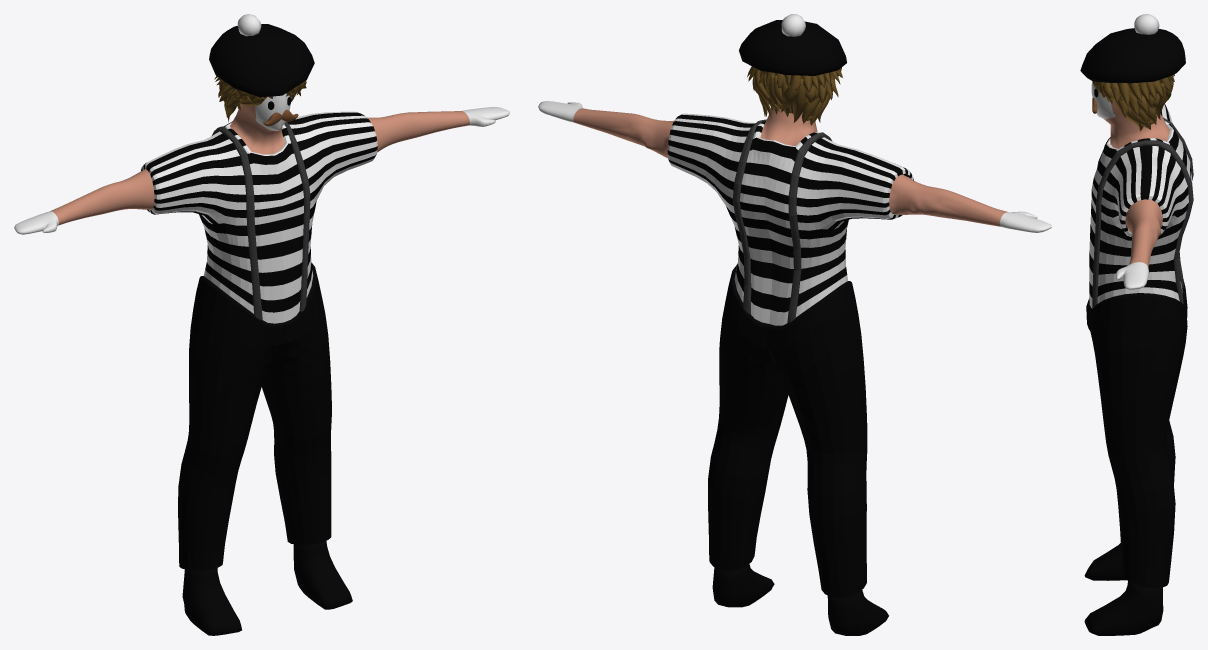
Rendered from MimeTestUnity.fbx.
3 views of the same model, side by side, from view 1: azimuth 30°, elevation 25°; view 2: azimuth 150°, elevation 25°; view 3: azimuth 270°, elevation 25° (orthographic). The views are drawn at different scales.
Parts seen in each view (by area): view 1: UnityTestModel; view 2: UnityTestModel; view 3: UnityTestModel.
Boxes of the visible parts, left/top/right/bottom form: UnityTestModel: left=14, top=14, right=509, bottom=635; UnityTestModel: left=538, top=14, right=1051, bottom=635; UnityTestModel: left=1080, top=14, right=1193, bottom=635.
Size of the model in its own units: 167 by 191 by 33.48.
